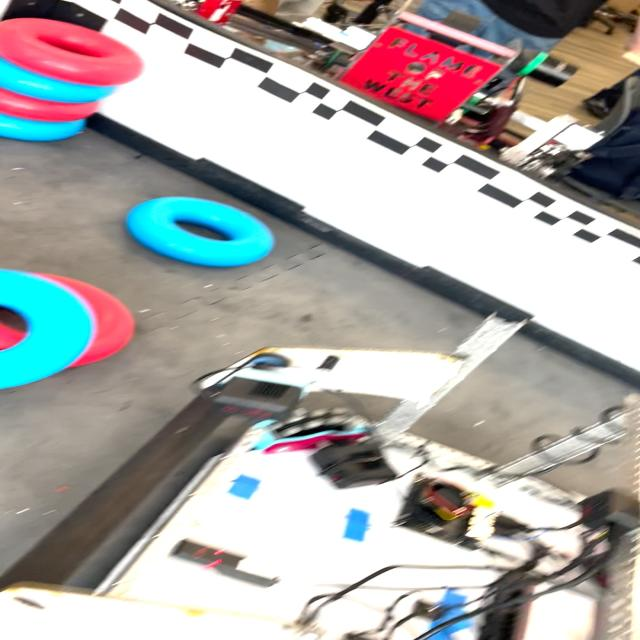Blue-Ring: (0, 270, 93, 387), (127, 196, 273, 266), (0, 58, 116, 102), (0, 114, 87, 141)
Red-Ring: (0, 18, 142, 86), (0, 88, 100, 122)
